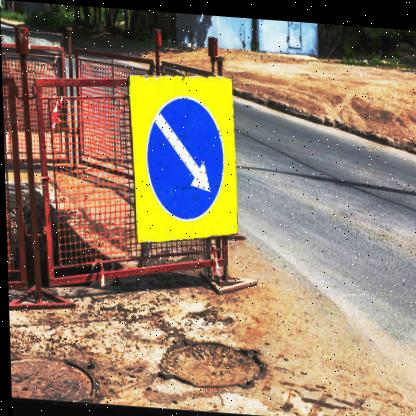Keep right: (138, 86, 225, 221)
